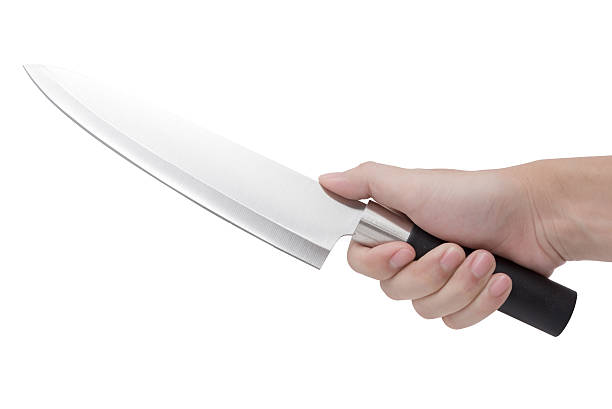knife: (22, 64, 580, 338)
